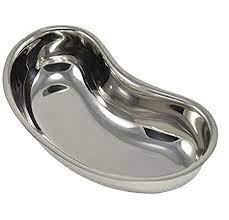Kidney Tray: (0, 23, 219, 194)
